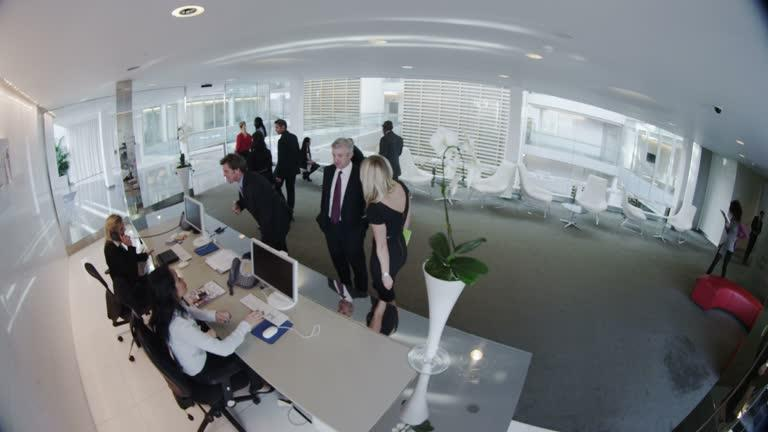dress: (366, 177, 411, 302)
jacket: (237, 168, 295, 240), (317, 161, 370, 226), (102, 238, 143, 302), (275, 133, 300, 181), (379, 133, 404, 176)
long sleeve shirt: (156, 302, 255, 377), (236, 131, 253, 155)
trousers: (323, 221, 368, 301)
